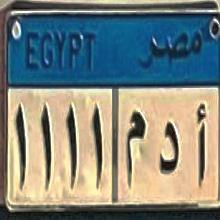1: (86, 103, 107, 191), (62, 101, 82, 190), (38, 97, 55, 187), (12, 102, 30, 186)
alif: (191, 98, 208, 185)
daal: (155, 118, 179, 181)
meem: (121, 108, 148, 188)
